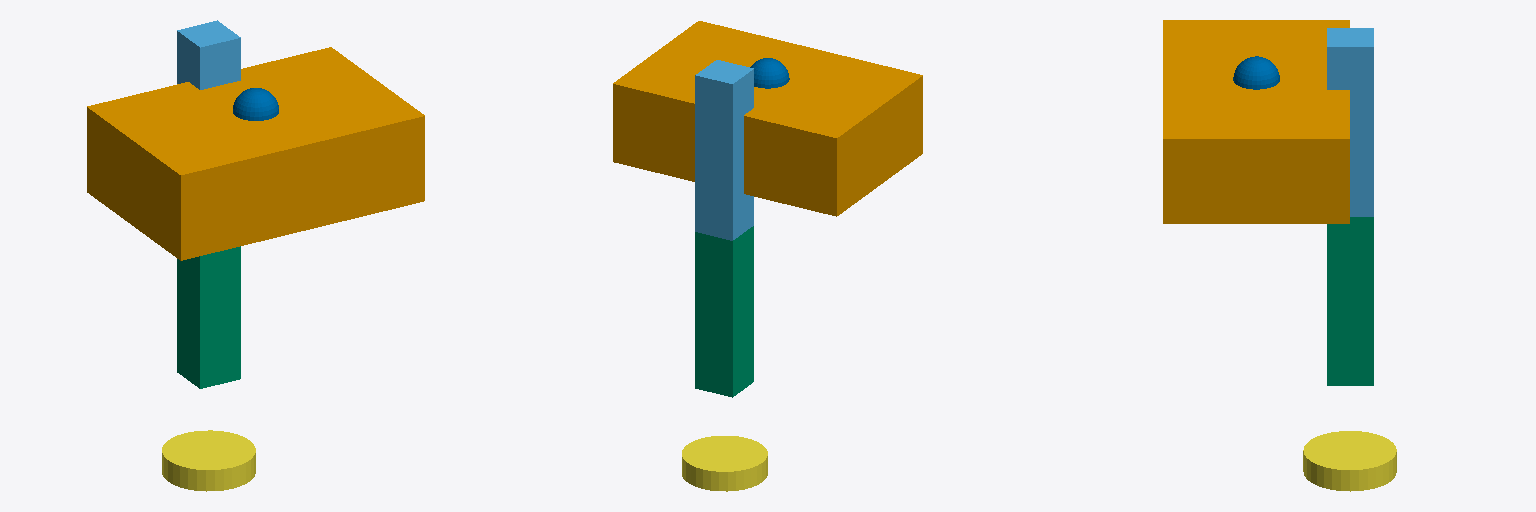
URDF robot description (bipedal_robot):
<?xml version="1.0"?>
<robot name="bipedal_robot">

  <!-- Link Definitions -->
  <link name="base_link">
    <visual>
      <geometry>
        <box size="0.6 0.4 0.2"/>
      </geometry>
    </visual>
  </link>

  <!-- Legs -->
  <link name="upper_leg">
    <visual>
      <geometry>
        <box size="0.1 0.1 0.4"/>
      </geometry>
    </visual>
  </link>

  <link name="lower_leg">
    <visual>
      <geometry>
        <box size="0.1 0.1 0.4"/>
      </geometry>
    </visual>
  </link>

  <link name="wheel">
    <visual>
      <geometry>
        <cylinder radius="0.1" length="0.05"/>
      </geometry>
    </visual>
  </link>

  <!-- Gyroscope -->
  <link name="gyroscope">
    <visual>
      <geometry>
        <sphere radius="0.05"/>
      </geometry>
    </visual>
  </link>

  <!-- Joints -->
  <!-- Hip Joint -->
  <joint name="hip_joint" type="revolute">
    <parent link="base_link"/>
    <child link="upper_leg"/>
    <origin xyz="0 0.2 0" rpy="0 0 0"/>
    <axis xyz="0 1 0"/>
    <limit lower="-1.57" upper="1.57"/>
  </joint>

  <!-- Knee Joint -->
  <joint name="knee_joint" type="revolute">
    <parent link="upper_leg"/>
    <child link="lower_leg"/>
    <origin xyz="0 0 -0.4" rpy="0 0 0"/>
    <axis xyz="0 1 0"/>
    <limit lower="0" upper="3.14"/>
  </joint>

  <!-- Wheel Joint -->
  <joint name="wheel_joint" type="continuous">
    <parent link="lower_leg"/>
    <child link="wheel"/>
    <origin xyz="0 0 -0.4" rpy="0 0 0"/>
    <axis xyz="0 1 0"/>
  </joint>

  <!-- Gyroscope Placement -->
  <joint name="gyroscope_joint" type="fixed">
    <parent link="base_link"/>
    <child link="gyroscope"/>
    <origin xyz="0 0 0.1" rpy="0 0 0"/>
  </joint>

</robot>

--- Render facts (derived) ---
Views: 3 orthographic renders of the robot side by side, from view 1: azimuth 30°, elevation 25°; view 2: azimuth 150°, elevation 25°; view 3: azimuth 270°, elevation 25°.
Robot: bipedal_robot — 5 links, 4 joints (2 revolute, 1 continuous, 1 fixed); root link base_link; default pose: every joint at zero.
Visible links, largest first — view 1: base_link, lower_leg, wheel, upper_leg, gyroscope; view 2: base_link, lower_leg, upper_leg, wheel, gyroscope; view 3: base_link, lower_leg, upper_leg, wheel, gyroscope.
Link boxes in pixels (left/top/right/bottom): base_link: left=87, top=47, right=424, bottom=260; lower_leg: left=177, top=246, right=240, bottom=388; wheel: left=162, top=430, right=255, bottom=491; upper_leg: left=177, top=20, right=240, bottom=89; gyroscope: left=233, top=88, right=278, bottom=120; base_link: left=613, top=21, right=922, bottom=216; lower_leg: left=695, top=226, right=753, bottom=397; upper_leg: left=695, top=60, right=753, bottom=240; wheel: left=682, top=436, right=767, bottom=491; gyroscope: left=750, top=58, right=789, bottom=88; base_link: left=1163, top=20, right=1349, bottom=223; lower_leg: left=1327, top=217, right=1373, bottom=385; upper_leg: left=1327, top=28, right=1373, bottom=216; wheel: left=1303, top=431, right=1396, bottom=491; gyroscope: left=1233, top=56, right=1279, bottom=89.
Size in the robot's own frame: 0.6 by 0.5 by 1.02 metres.
Geometry: primitives only (box / cylinder / sphere), no mesh files.